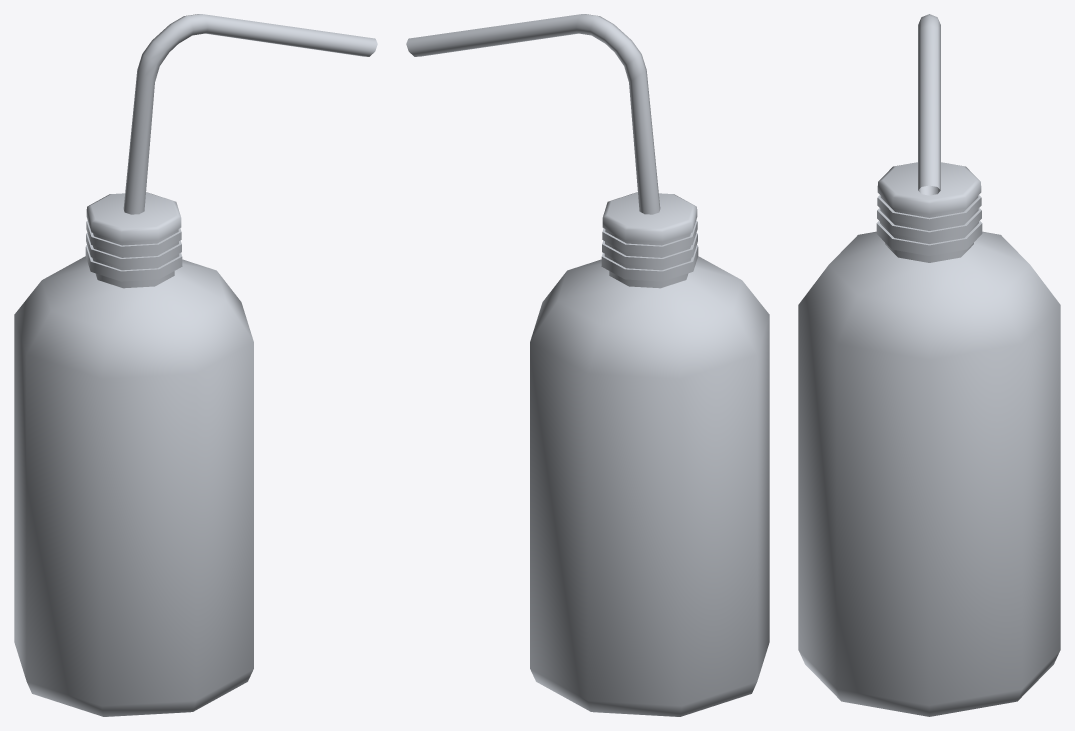
File: misc_wash_bottle.glb
3 views of the same model, side by side, from view 1: azimuth 30°, elevation 25°; view 2: azimuth 150°, elevation 25°; view 3: azimuth 270°, elevation 25° (orthographic). The views are drawn at different scales.
Visible parts, largest first — view 1: misc_wash_bottle, misc_wash_bottle_straw; view 2: misc_wash_bottle, misc_wash_bottle_straw; view 3: misc_wash_bottle, misc_wash_bottle_straw.
Part boxes in pixels (bbox=[...]): misc_wash_bottle: bbox=[14, 256, 253, 716]; misc_wash_bottle_straw: bbox=[85, 14, 377, 281]; misc_wash_bottle: bbox=[530, 256, 769, 716]; misc_wash_bottle_straw: bbox=[406, 14, 698, 281]; misc_wash_bottle: bbox=[798, 231, 1060, 716]; misc_wash_bottle_straw: bbox=[876, 14, 982, 255].
Bounding box in the file's own units: 14.14 × 25 × 8.71.
1 material, 1 textured.
